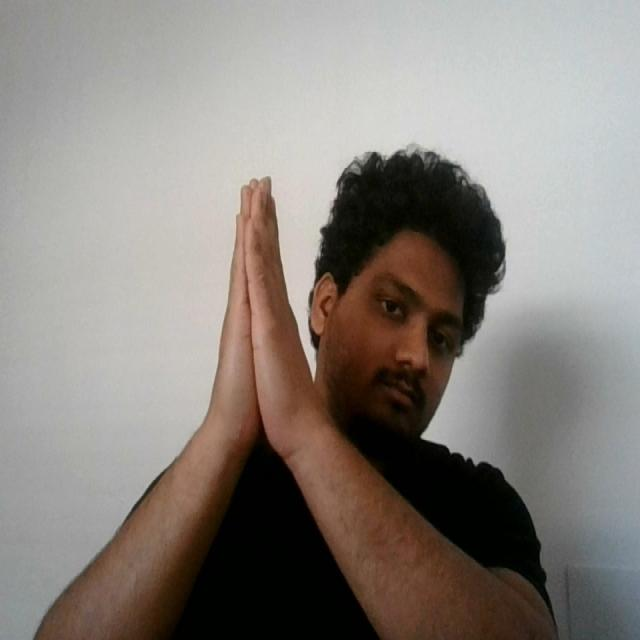Thanks: (196, 164, 334, 480)
